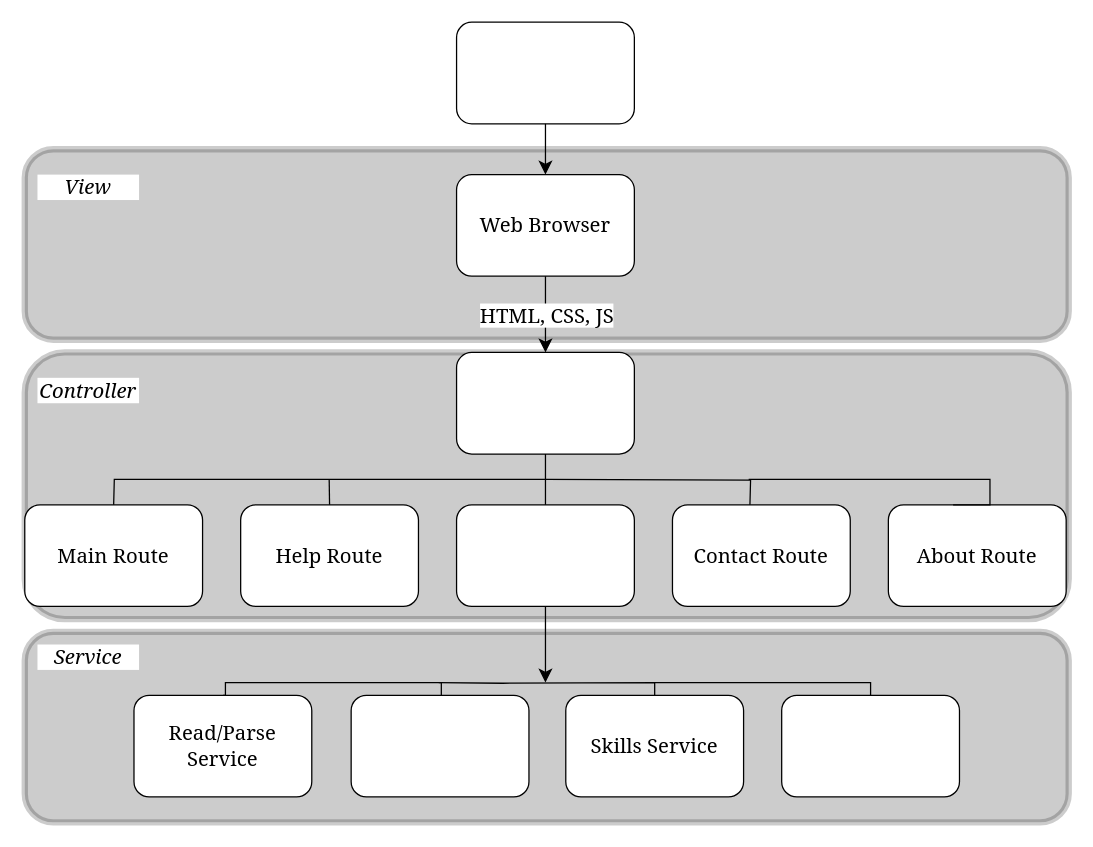
This 1093x847 diagram has some shape labels left out. The box of each missing label's shape, as (x1, y1, x2, y2) in pixels:
Categories Route: (455, 504, 634, 606)
Flask: (455, 351, 634, 454)
Friendship Service: (350, 694, 529, 797)
Progression Service: (780, 694, 959, 797)
User: (455, 21, 634, 124)
